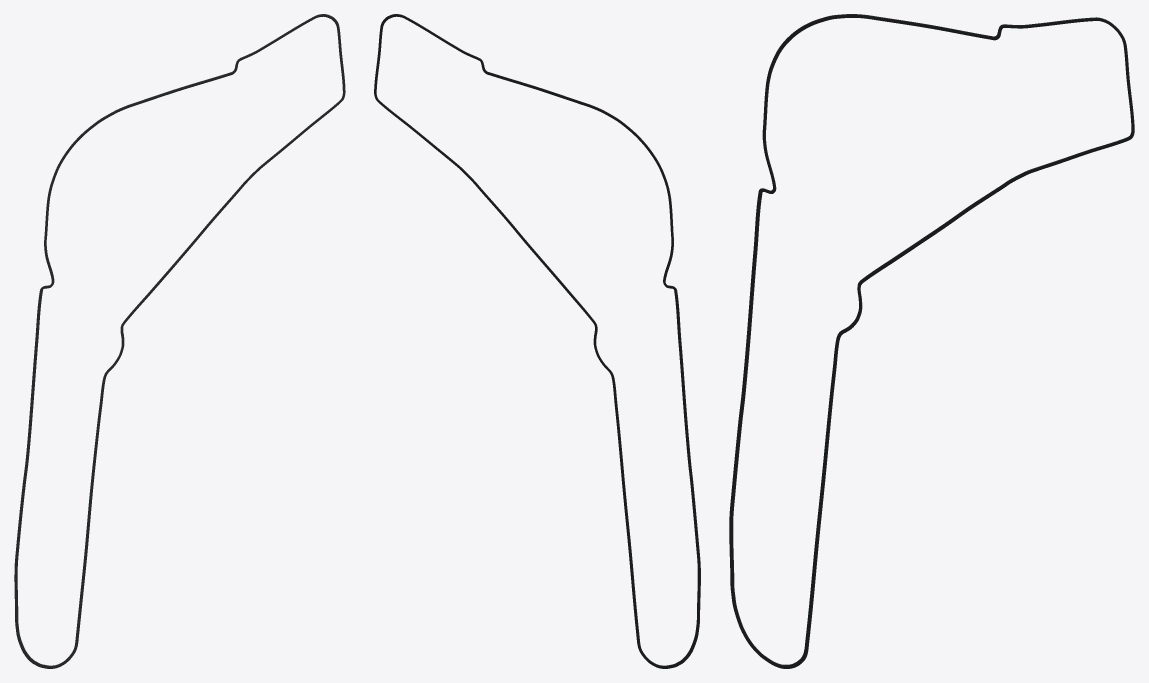
Rendered from road_textured.obj.
The picture shows the model from 3 angles, left to right: view 1: azimuth 30°, elevation 25°; view 2: azimuth 150°, elevation 25°; view 3: azimuth 330°, elevation 25°; orthographic projection. The views are drawn at different scales.
Parts seen in each view (by area): view 1: URRC; view 2: URRC; view 3: URRC.
Part boxes in pixels (x1,y1,x2,y2): URRC: (14,14,345,668); URRC: (374,14,700,668); URRC: (729,14,1134,668).
Size of the model in its own units: 254 by 436 by 2.64.
1 material, 1 textured.
